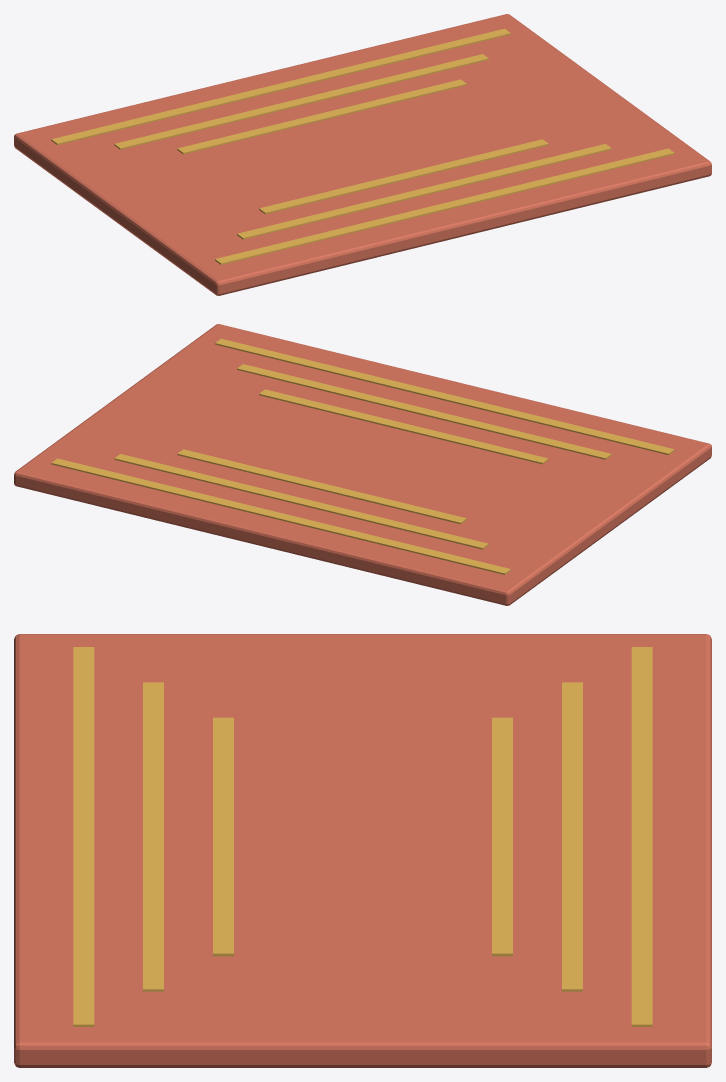
Rendered from hh_bedroom_rug.glb.
3 renders of one model, top to bottom at view 1: azimuth 30°, elevation 25°; view 2: azimuth 150°, elevation 25°; view 3: azimuth 270°, elevation 25°, orthographic. The views are drawn at different scales.
Visible parts, largest first — view 1: rug, stripe.001, stripe, stripe.002, stripe.003, stripe.005, stripe.004; view 2: rug, stripe, stripe.001, stripe.003, stripe.002, stripe.004, stripe.005; view 3: rug, stripe, stripe.001, stripe.002, stripe.003, stripe.004, stripe.005.
Boxes of the visible parts, box(x1,y1,x2,y2) form: rug: box(14, 14, 711, 295); stripe.001: box(51, 28, 510, 145); stripe: box(215, 148, 674, 264); stripe.002: box(237, 144, 611, 239); stripe.003: box(114, 54, 488, 149); stripe.005: box(177, 79, 466, 154); stripe.004: box(259, 139, 548, 214); rug: box(14, 324, 711, 605); stripe: box(215, 338, 674, 455); stripe.001: box(51, 458, 510, 574); stripe.003: box(114, 454, 488, 549); stripe.002: box(237, 364, 611, 459); stripe.004: box(259, 389, 548, 464); stripe.005: box(177, 449, 466, 524); rug: box(14, 634, 711, 1067); stripe: box(73, 647, 94, 1026); stripe.001: box(631, 647, 652, 1026); stripe.002: box(143, 682, 163, 991); stripe.003: box(562, 682, 582, 991); stripe.004: box(213, 717, 233, 956); stripe.005: box(492, 717, 512, 956).
Bounding box in the file's own units: 1.4 × 0.044 × 1.
